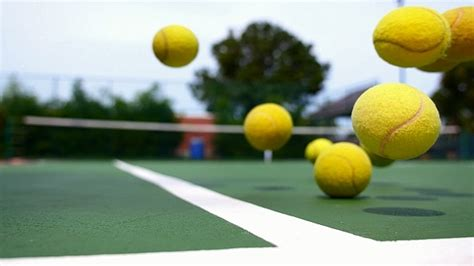tennis_ball: (350, 82, 441, 160), (373, 5, 450, 69), (314, 141, 374, 199), (243, 101, 293, 152), (152, 25, 199, 68), (442, 4, 474, 63), (357, 140, 396, 168), (305, 138, 333, 163), (418, 58, 460, 73)
